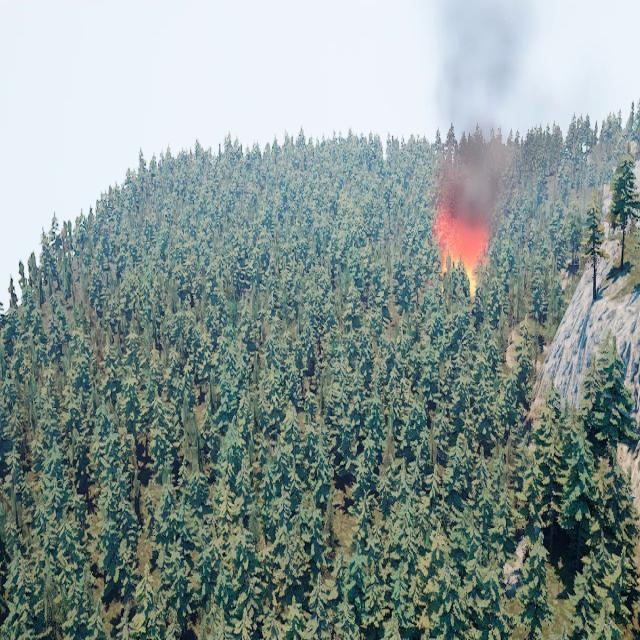fire: (440, 224, 484, 296)
smoke: (422, 17, 520, 258)
